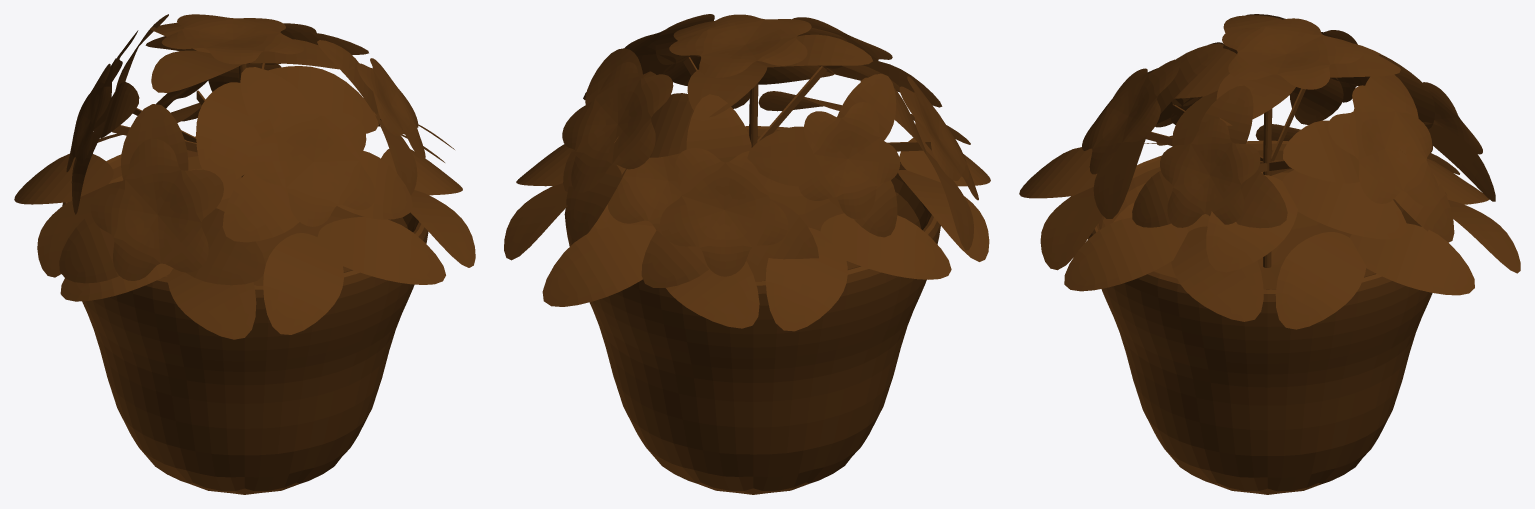
File: PottedFlower.fbx
3 views of the same model, side by side, from view 1: azimuth 30°, elevation 25°; view 2: azimuth 150°, elevation 25°; view 3: azimuth 270°, elevation 25° (orthographic). The views are drawn at different scales.
Parts seen in each view (by area): view 1: PottedFlower; view 2: PottedFlower; view 3: PottedFlower.
Part boxes in pixels (box(x1,y1,x2,y2)): PottedFlower: box(14, 14, 475, 494); PottedFlower: box(504, 14, 990, 494); PottedFlower: box(1019, 14, 1520, 494).
Bounding box in the file's own units: 3.1 × 3.16 × 3.32.
